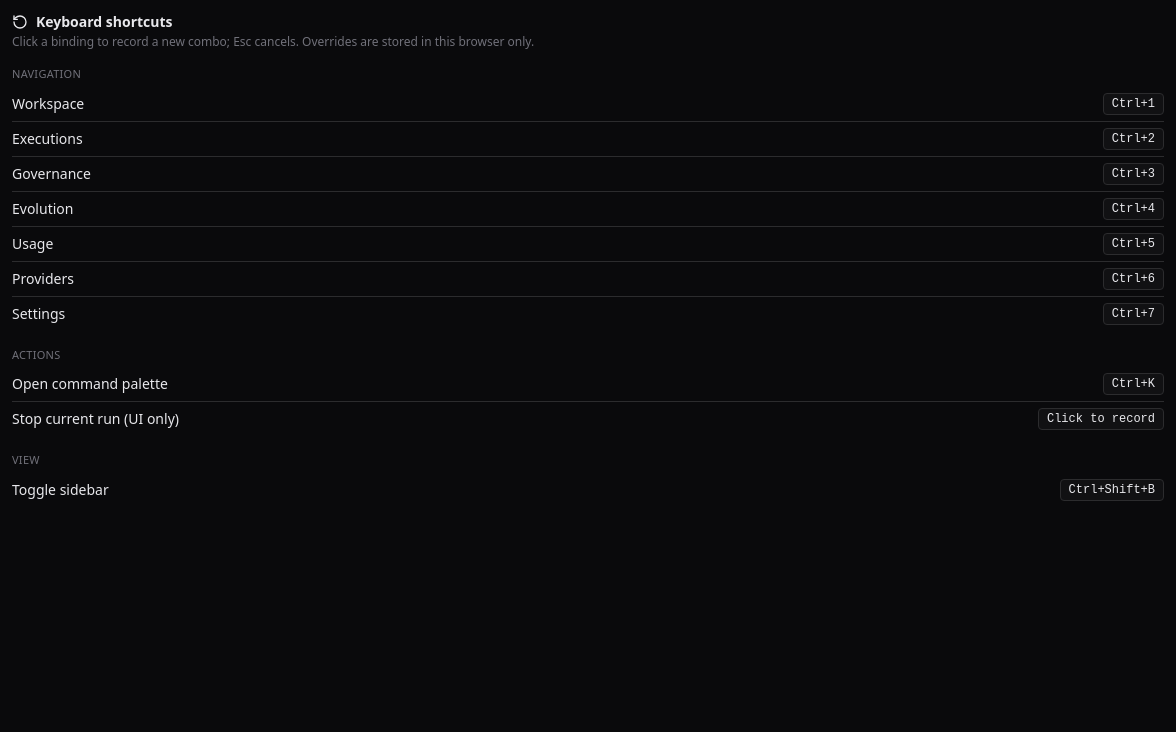
Test: ShortcutsSection › cancels a recording with Escape
The image size is (1176, 732).
Click the button with test id "shortcuts-record" showing "Click to record".
click(1101, 419)  # box [1038,408,1164,430]
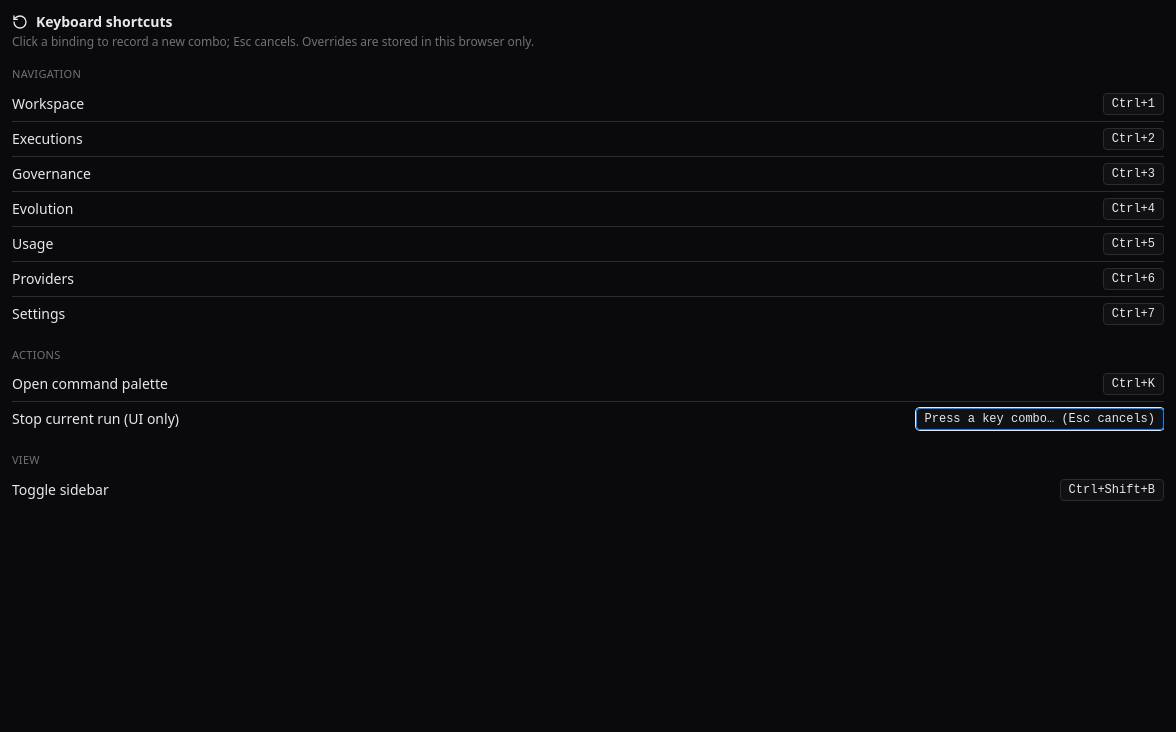
Press Escape
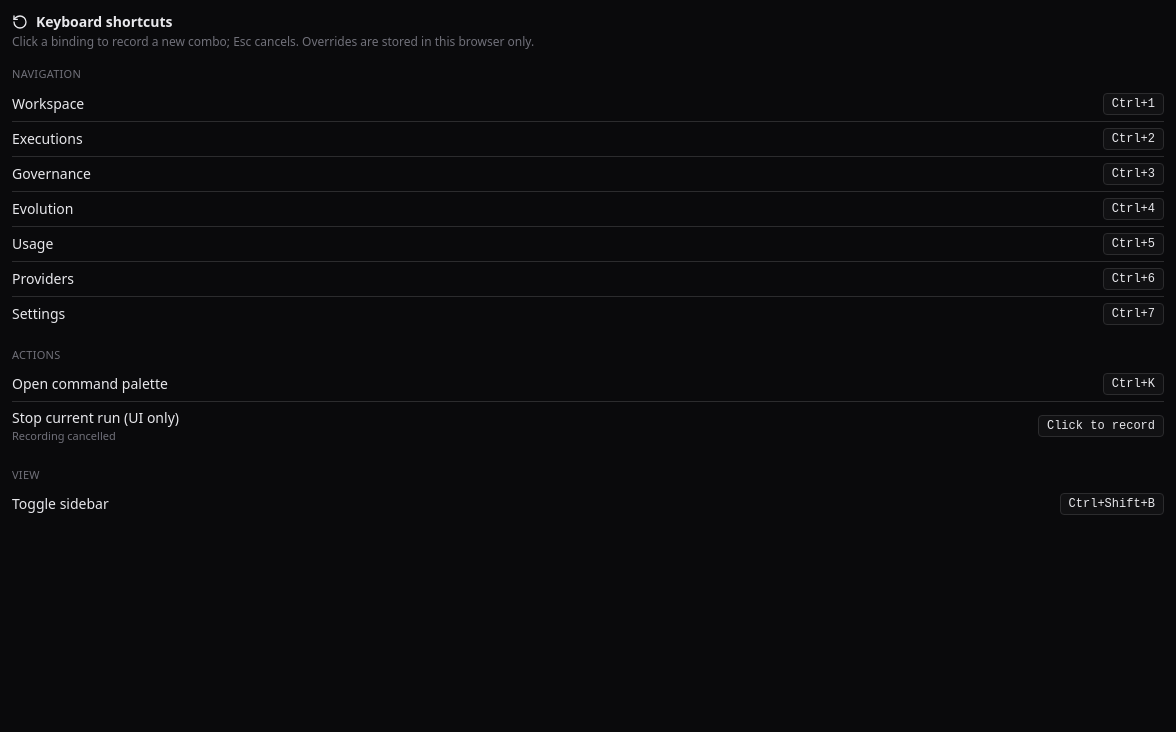
Check: the button with test id "shortcuts-record" reads "Click to record", box [1038,415,1164,437]
Check: the message with test id "shortcuts-row-notice" reads "Recording cancelled", box [12,428,116,443]
